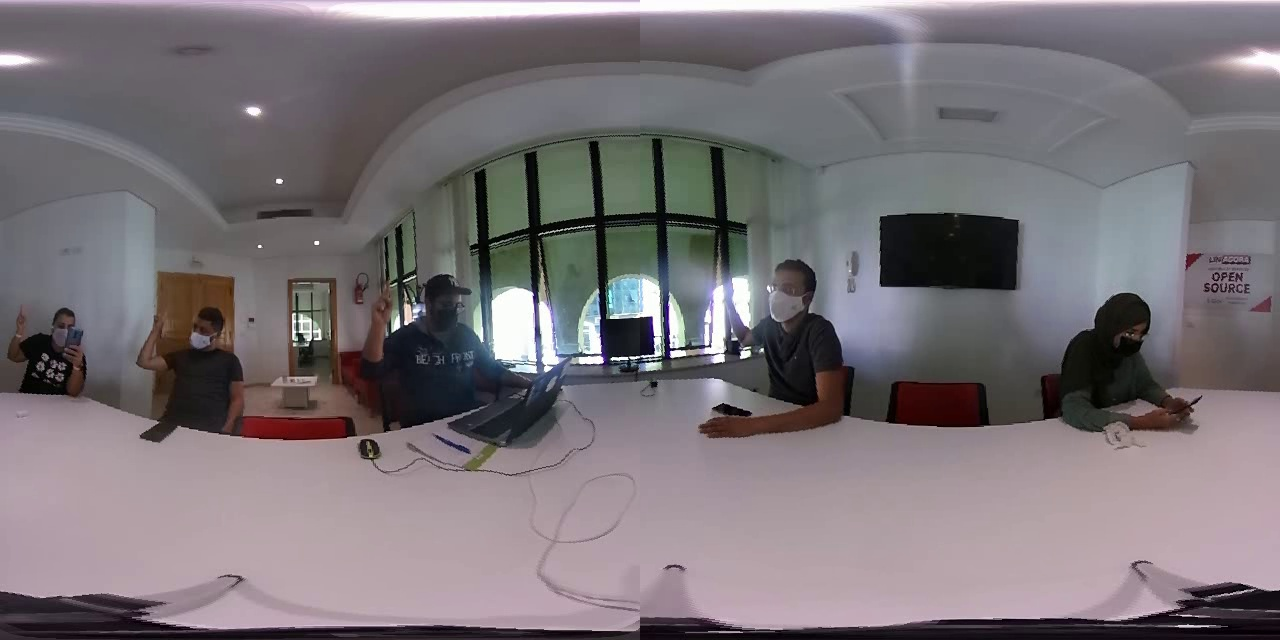person: (698, 235, 868, 443), (1044, 267, 1214, 449), (356, 256, 519, 426), (134, 282, 259, 447), (2, 295, 108, 422)
speaking: (358, 265, 401, 395), (719, 256, 759, 371), (132, 294, 177, 386), (2, 294, 37, 376)
